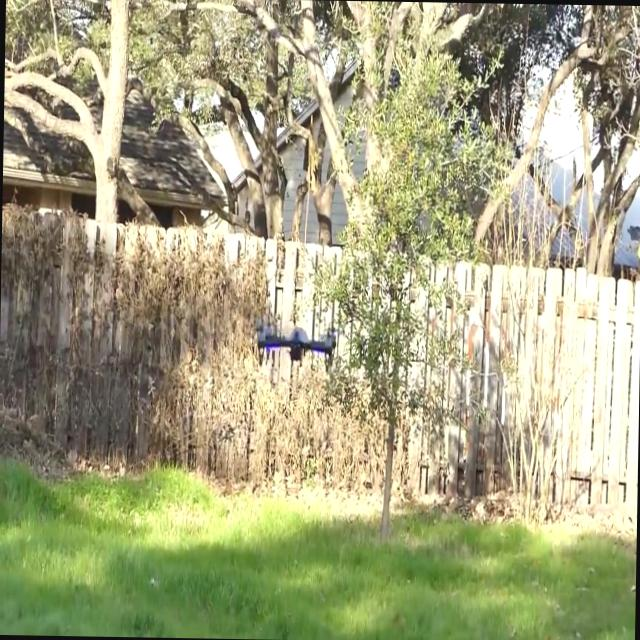drone: (254, 319, 336, 370)
